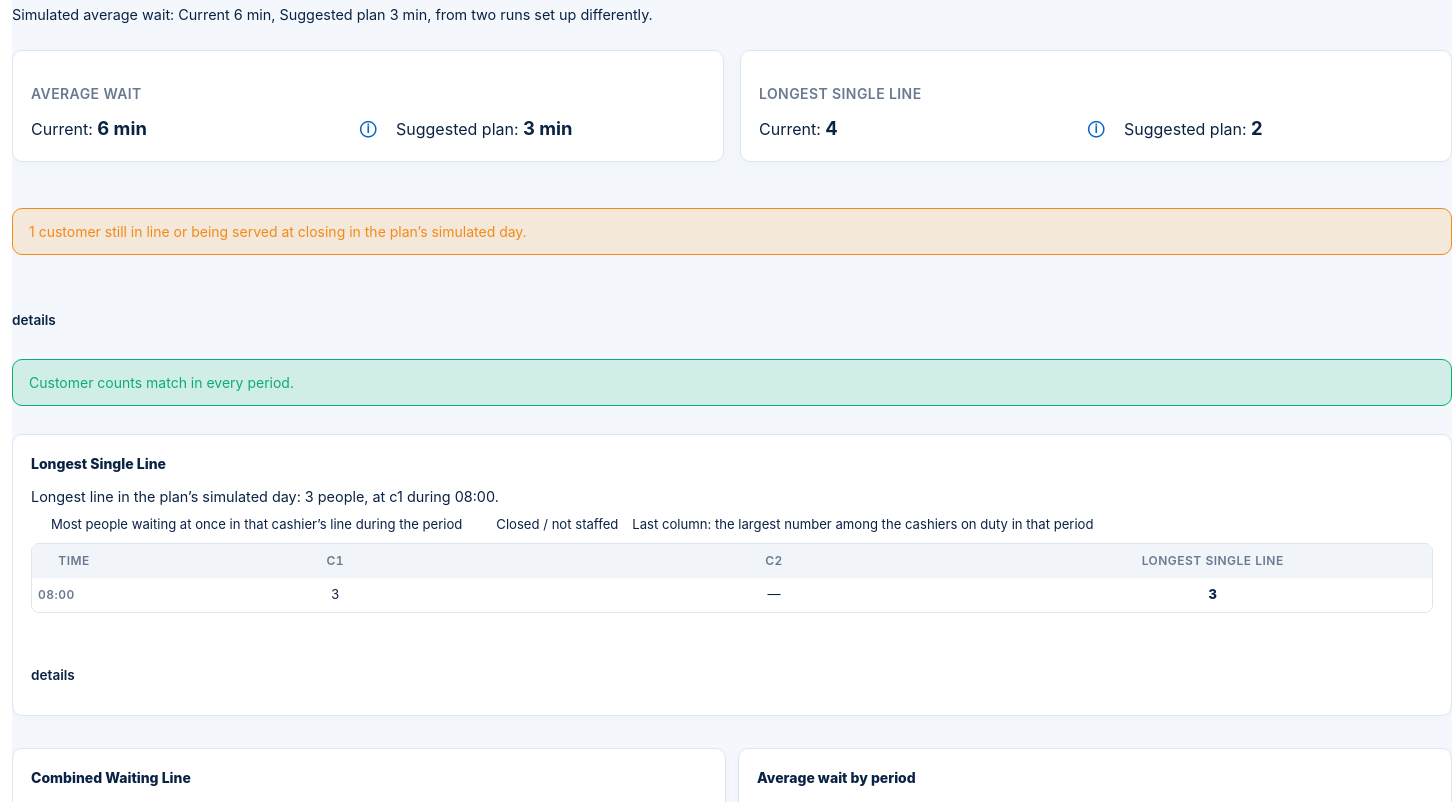
Test: Key Results cards (B5) › explains the different basis for a continuous plan day with breaks (separate lines)
The width and height of the screenshot is (1452, 802).
Step 1. Hover over the button named "Why these are not the same basis" → (368, 127), box [352, 111, 384, 143]
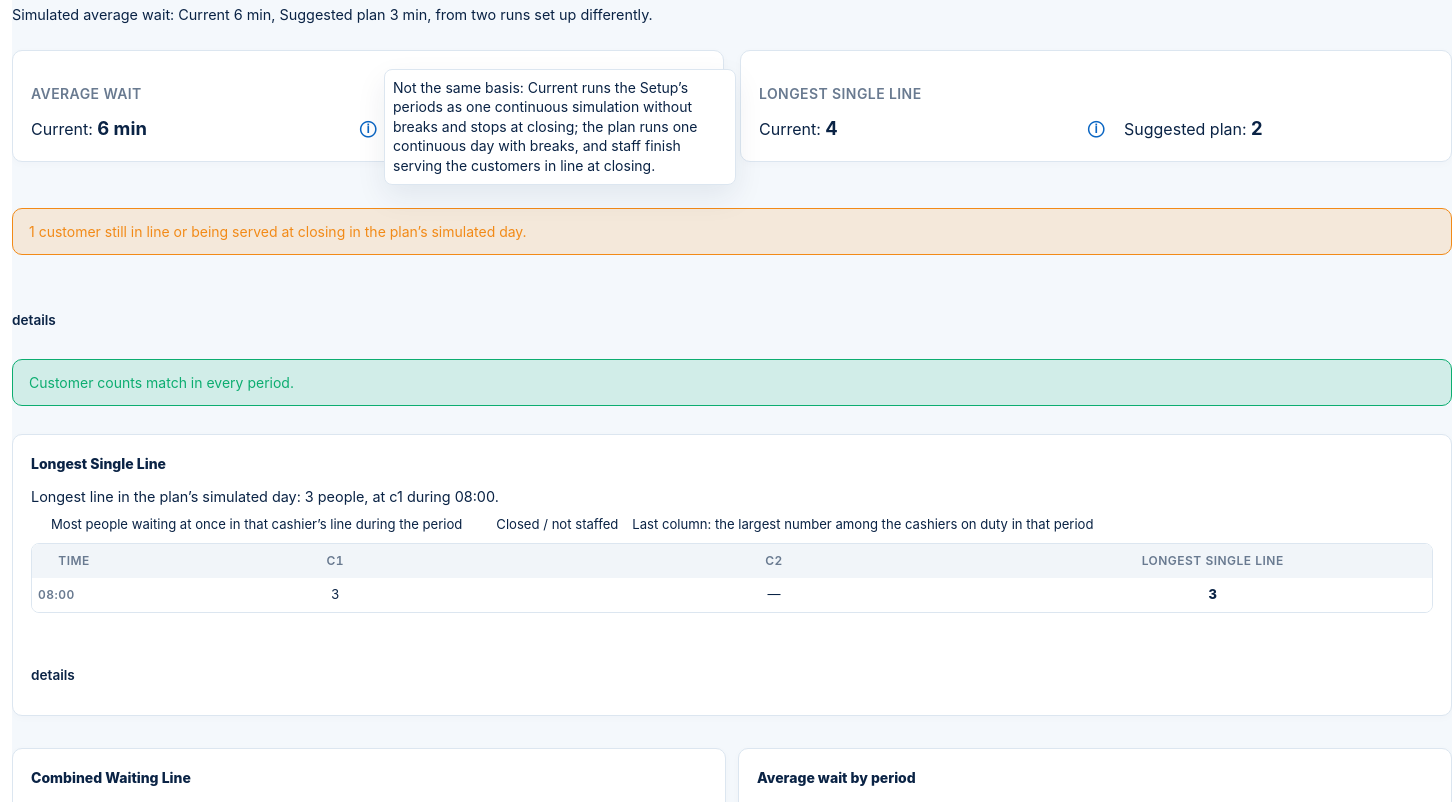
Expected: the tooltip does not show "one period at a time", [384, 69, 736, 185]
Result: the tooltip shows "Not the same basis: Current runs the Setup’s periods as one continuous simulation without breaks and stops at closing; the plan runs one continuous day with bre" at [393, 79, 698, 174]
